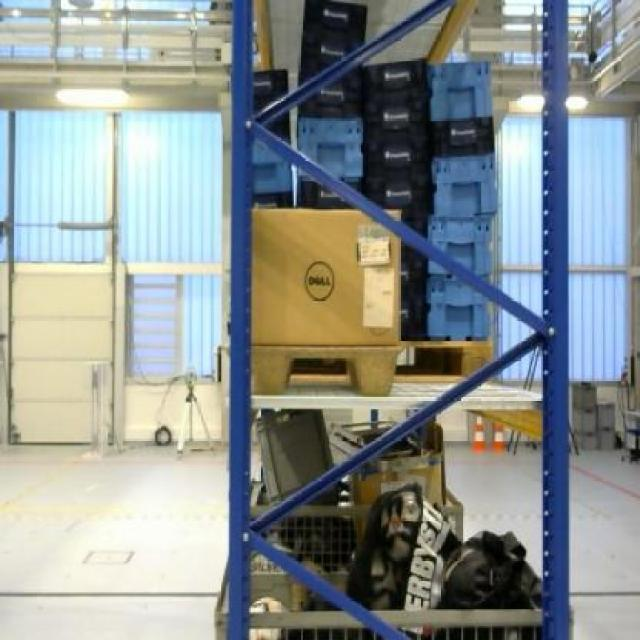box: (251, 206, 400, 346)
